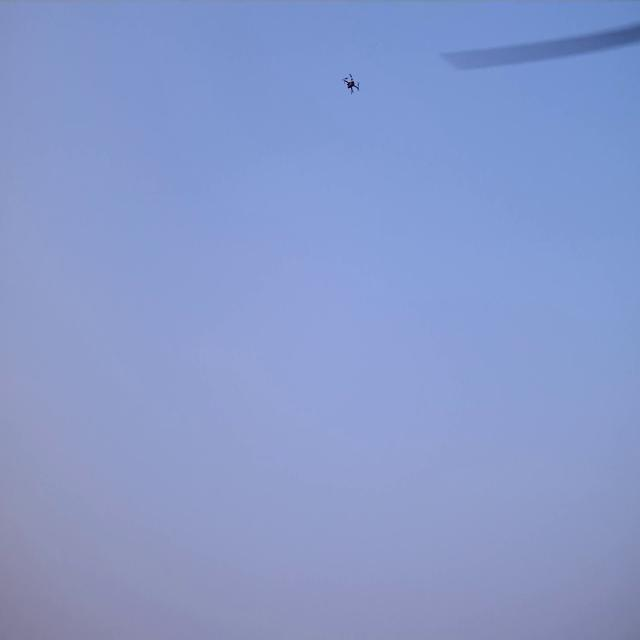UAV: (344, 75, 358, 92)
